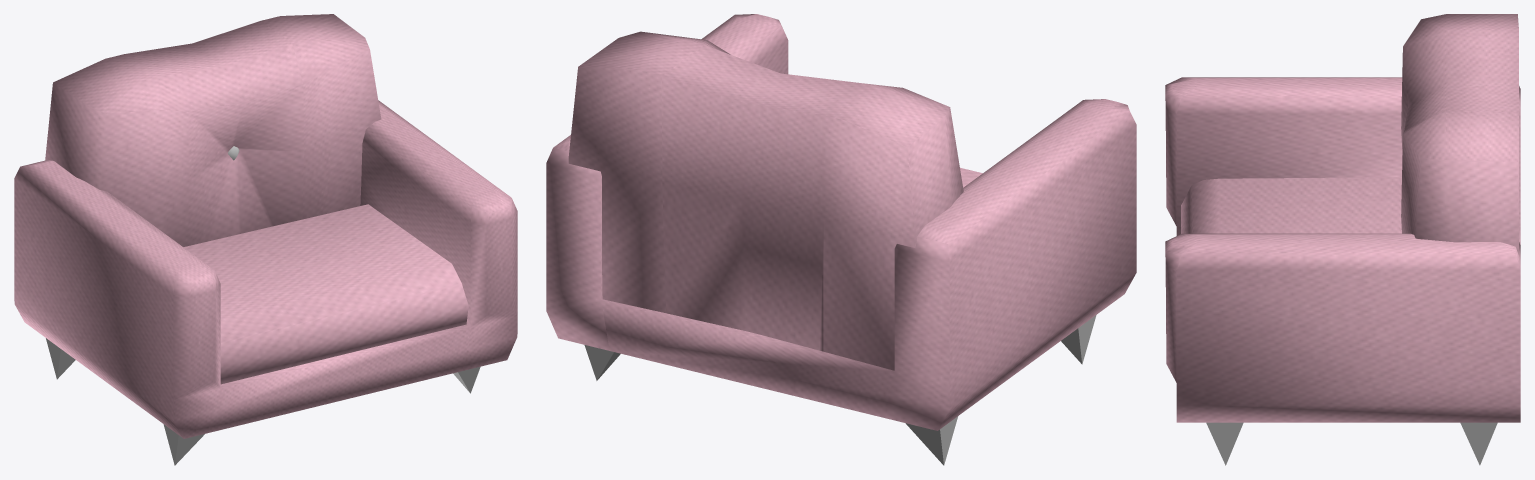
File: Chair_E_3.FBX
3 views of the same model, side by side, from view 1: azimuth 30°, elevation 25°; view 2: azimuth 150°, elevation 25°; view 3: azimuth 270°, elevation 25° (orthographic). The views are drawn at different scales.
Parts seen in each view (by area): view 1: Chair; view 2: Chair; view 3: Chair.
Boxes of the visible parts, x1,y1,x2,y2 form: Chair: [14, 14, 517, 465]; Chair: [546, 14, 1136, 465]; Chair: [1165, 14, 1520, 465].
Size of the model in its own units: 204 by 167 by 169.
